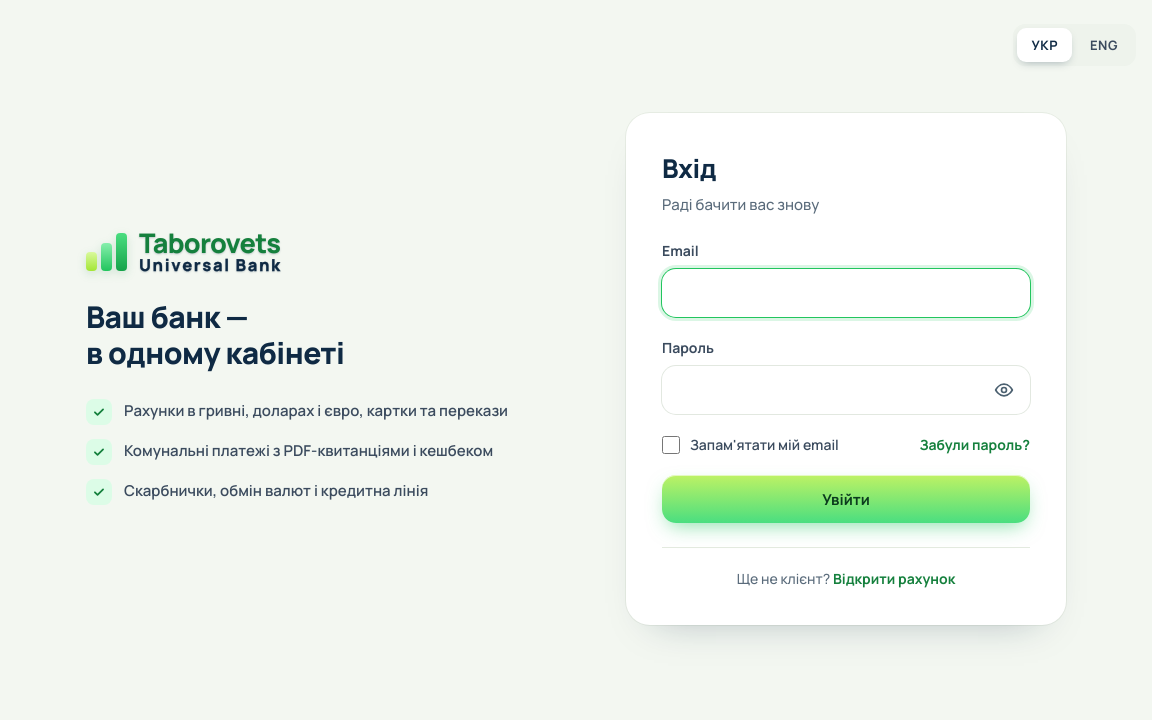
LoginPage › logs in and returns the client to the page they wanted to open
The width and height of the screenshot is (1152, 720).
Type "ivan@example.com" into the field labelled "Email".
click(846, 293); type("ivan@example.com")  # box [662,269,1030,317]
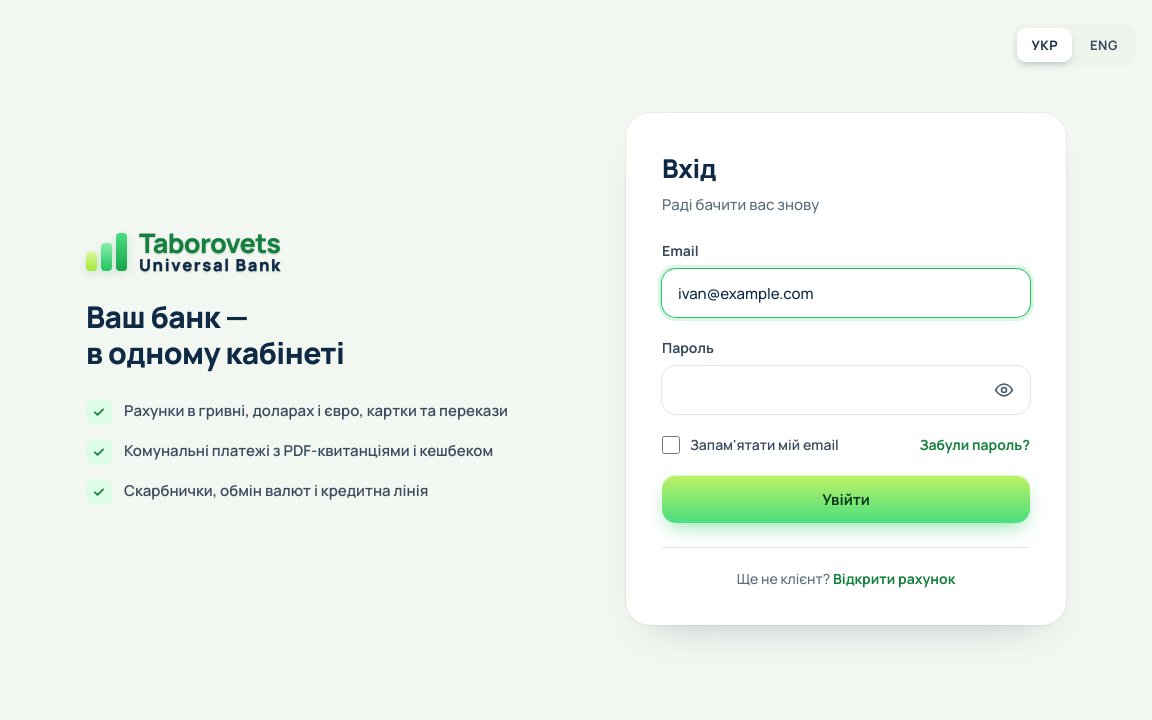
Type "correct-password" into the password field labelled "Пароль".
click(846, 390); type("correct-password")  # box [662,366,1030,414]
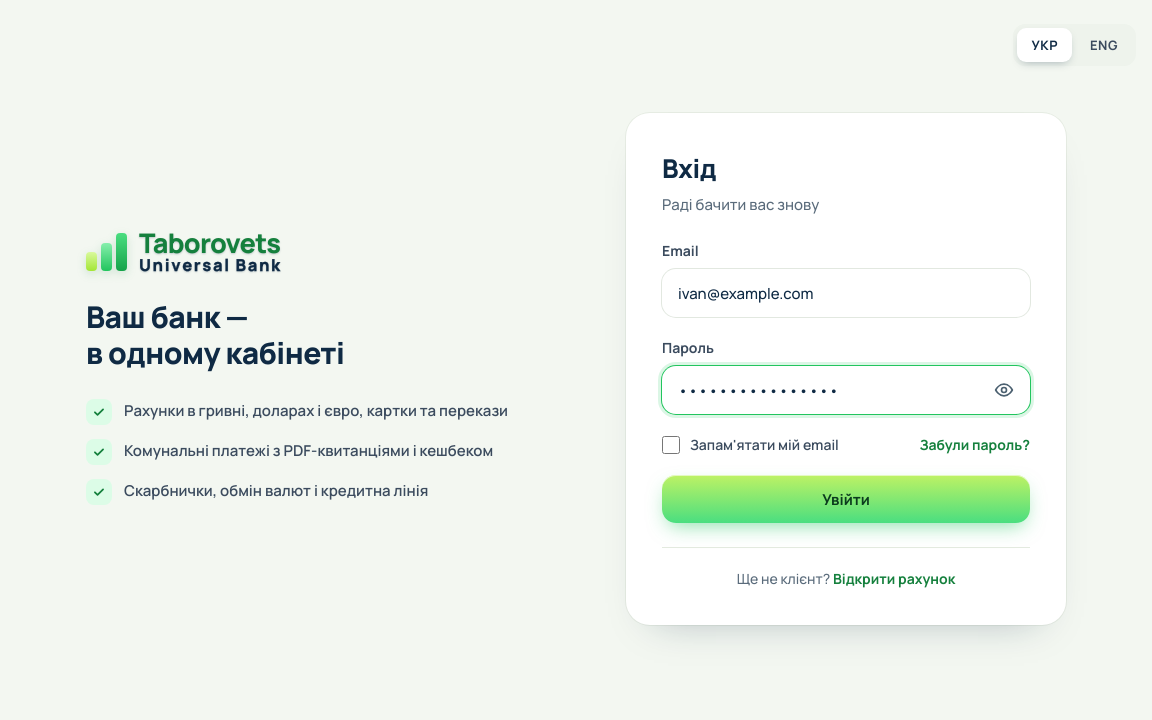
Click the button "Увійти".
click(846, 499)  # box [662,475,1030,523]
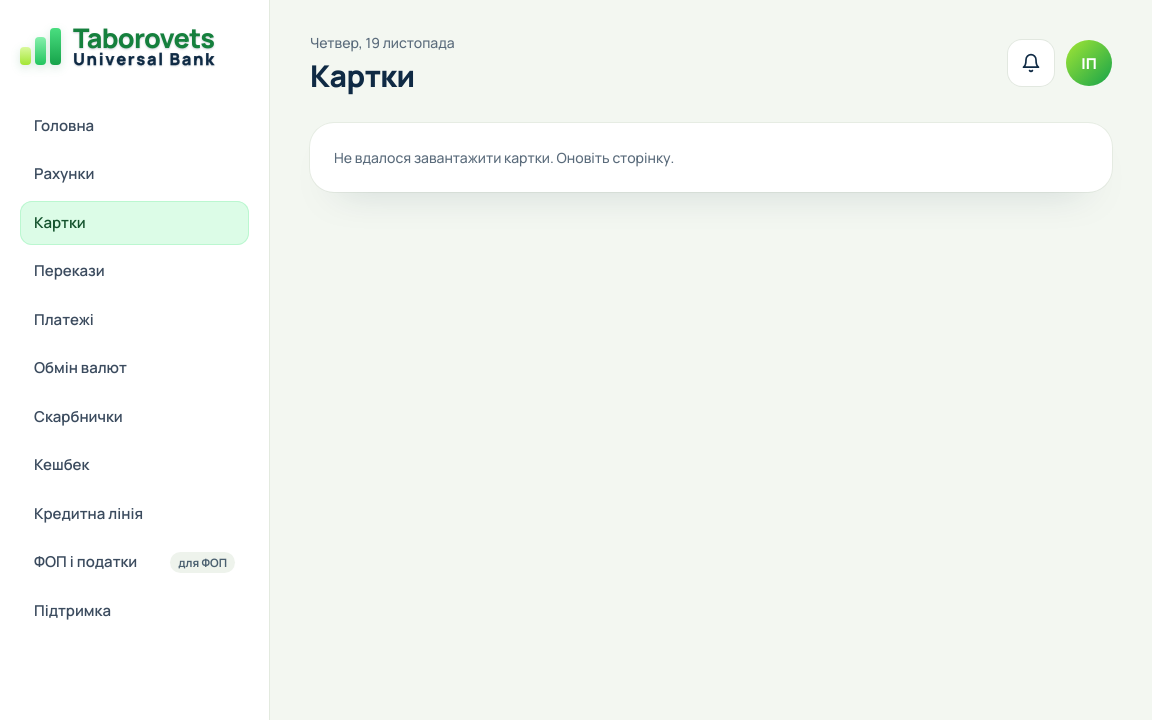
Now the heading "Картки" is shown, box [310,55,415,96]
